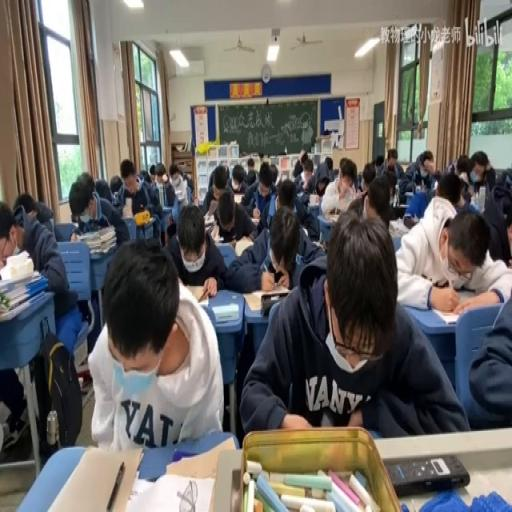calculator: (38, 444, 144, 509), (124, 471, 216, 509), (164, 435, 234, 479), (0, 289, 45, 320), (240, 288, 286, 312), (432, 302, 482, 324), (0, 268, 39, 294), (186, 282, 221, 304), (73, 318, 89, 366), (452, 282, 486, 303), (212, 302, 238, 322), (233, 235, 254, 256), (388, 218, 407, 236), (160, 204, 173, 224), (122, 199, 132, 218), (210, 223, 219, 242), (326, 209, 340, 221), (202, 213, 214, 226), (157, 182, 163, 208), (310, 239, 324, 250), (231, 193, 243, 205), (309, 193, 319, 205), (405, 189, 414, 201), (250, 216, 260, 225), (414, 183, 424, 192), (295, 191, 304, 199)
paper: (244, 209, 466, 437), (89, 234, 223, 452), (0, 194, 70, 449), (463, 269, 511, 429), (68, 172, 126, 256), (123, 161, 165, 233), (208, 188, 258, 247), (482, 171, 511, 263), (318, 156, 360, 219), (291, 171, 323, 239), (12, 192, 55, 235), (400, 148, 435, 200), (466, 151, 492, 192), (438, 169, 464, 208), (166, 161, 189, 205), (274, 178, 296, 212), (226, 161, 248, 193), (384, 146, 402, 180), (360, 161, 376, 193), (452, 154, 470, 180), (109, 175, 123, 202), (207, 168, 219, 190), (245, 166, 258, 186), (374, 154, 385, 176), (428, 168, 442, 185), (316, 178, 329, 196), (154, 166, 166, 185), (267, 163, 277, 185), (460, 185, 471, 203), (138, 168, 150, 183), (293, 159, 302, 178), (299, 149, 309, 165), (324, 155, 333, 171), (356, 172, 362, 191), (338, 156, 346, 170), (149, 164, 156, 179), (260, 154, 270, 164), (246, 156, 254, 168), (322, 128, 330, 134)
person: (384, 452, 470, 494), (394, 202, 407, 219)
